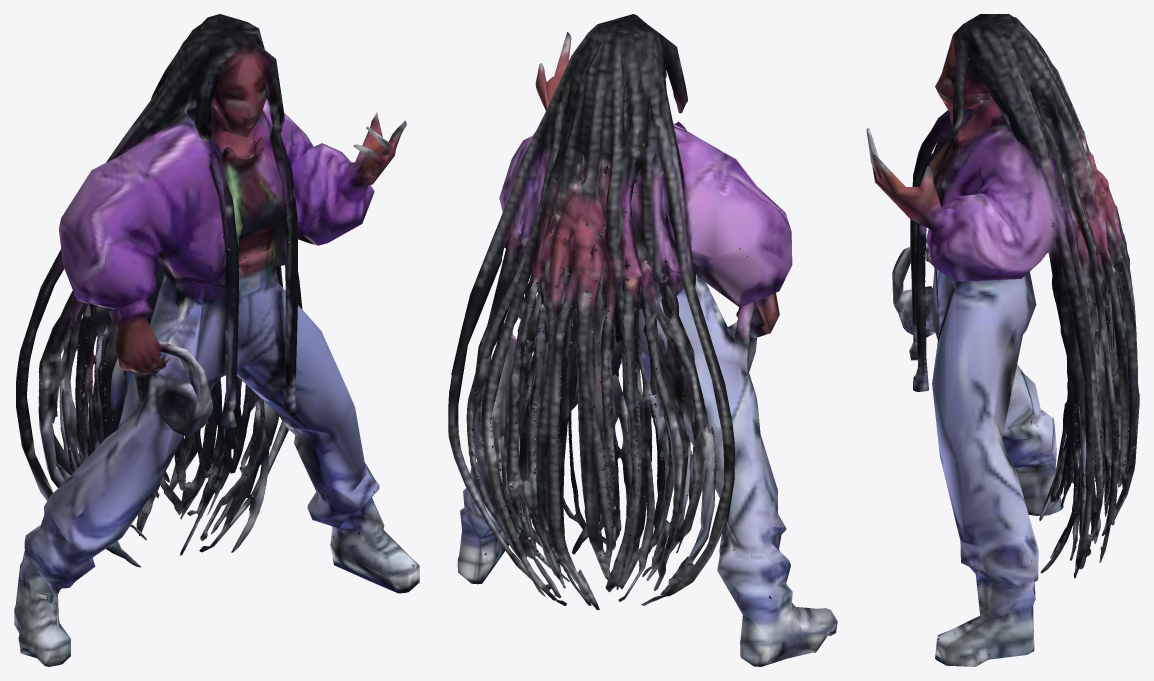
Rendered from neon-ultra-lite.glb.
3 views of the same model, side by side, from view 1: azimuth 30°, elevation 25°; view 2: azimuth 150°, elevation 25°; view 3: azimuth 270°, elevation 25° (orthographic). The views are drawn at different scales.
Visible parts, largest first — view 1: Mesh_001; view 2: Mesh_001; view 3: Mesh_001.
Part boxes in pixels (<box>): Mesh_001: <box>14,14,419,666</box>; Mesh_001: <box>448,14,837,666</box>; Mesh_001: <box>866,14,1139,666</box>.
Bounding box in the file's own units: 1.28 × 1.89 × 0.8191.
Materials: 1 (1 with a texture image).
